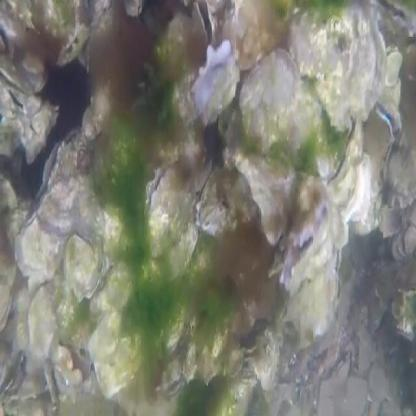3: (282, 202, 334, 300), (191, 40, 241, 123), (374, 0, 416, 36), (193, 0, 215, 45), (161, 357, 185, 396), (0, 23, 10, 58)
Oyster- Indeterminate: (296, 0, 386, 129), (146, 161, 193, 255), (37, 130, 91, 209), (327, 108, 364, 204), (14, 212, 59, 288), (196, 164, 238, 241), (66, 230, 101, 303), (363, 100, 401, 165), (0, 52, 49, 93), (56, 24, 90, 68), (0, 247, 15, 327), (10, 88, 44, 114), (383, 46, 403, 87), (398, 318, 413, 341), (335, 273, 342, 308), (335, 247, 344, 273)
Oyster-Closed: (241, 51, 323, 160), (235, 149, 295, 242), (283, 248, 337, 335), (95, 333, 146, 395), (91, 262, 133, 316), (29, 290, 57, 360), (89, 308, 123, 364), (406, 224, 416, 252)
